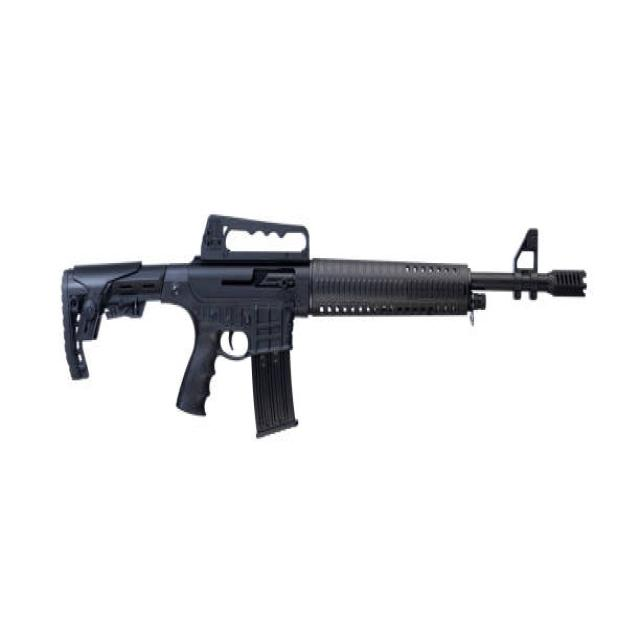rifle: (61, 214, 593, 446)
